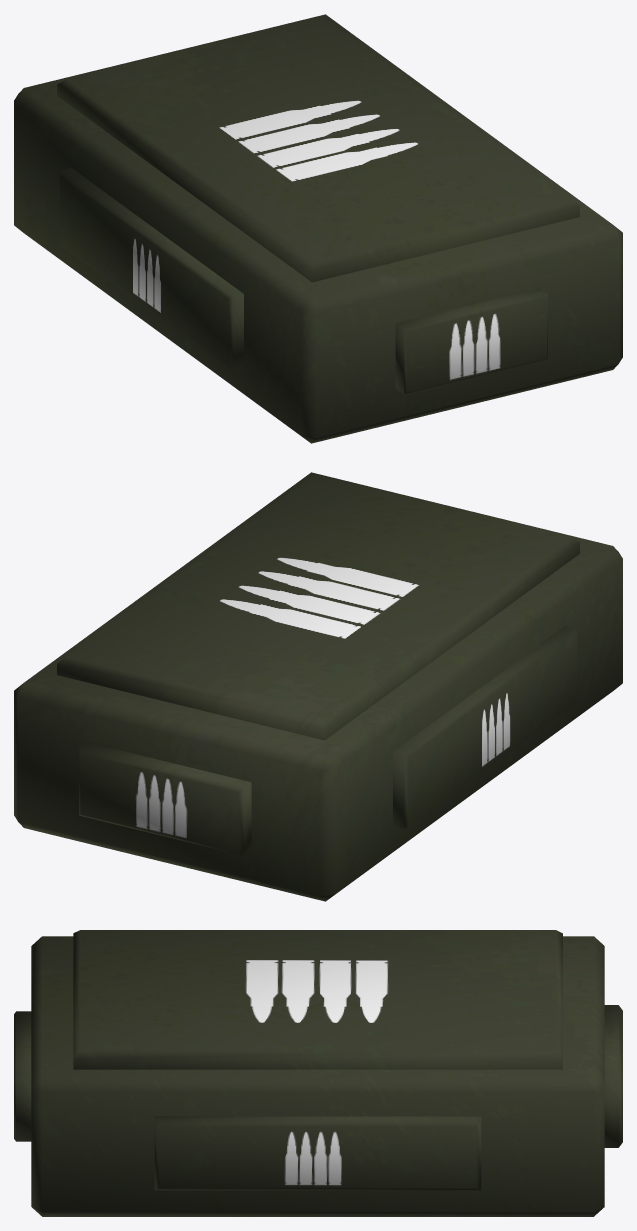
The model's file is Ammo_Box_Fbx.fbx.
The picture shows the model from 3 angles, top to bottom: view 1: azimuth 30°, elevation 25°; view 2: azimuth 150°, elevation 25°; view 3: azimuth 270°, elevation 25°; orthographic projection. The views are drawn at different scales.
Visible parts, largest first — view 1: Cube; view 2: Cube; view 3: Cube.
Boxes of the visible parts, x1,y1,x2,y2 form: Cube: (14,14,622,443); Cube: (14,472,622,901); Cube: (14,930,622,1216).
Size of the model in its own units: 48.08 by 21.54 by 76.13.
